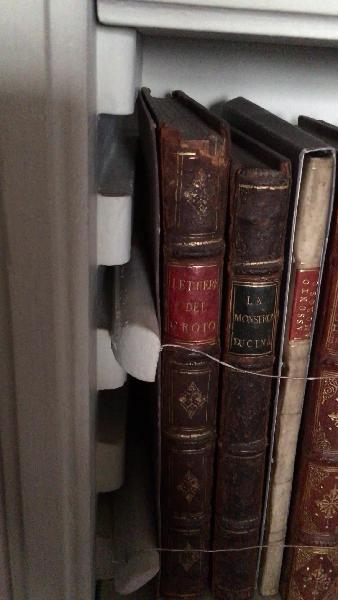Aa6-1: (149, 121, 230, 600)
Aa6-2: (205, 152, 290, 600)
Aa6-3: (251, 140, 338, 576)
